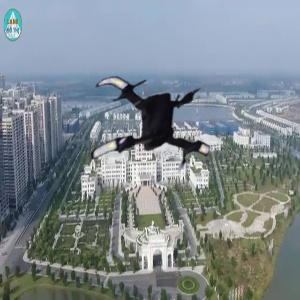drone: (83, 53, 229, 199)
